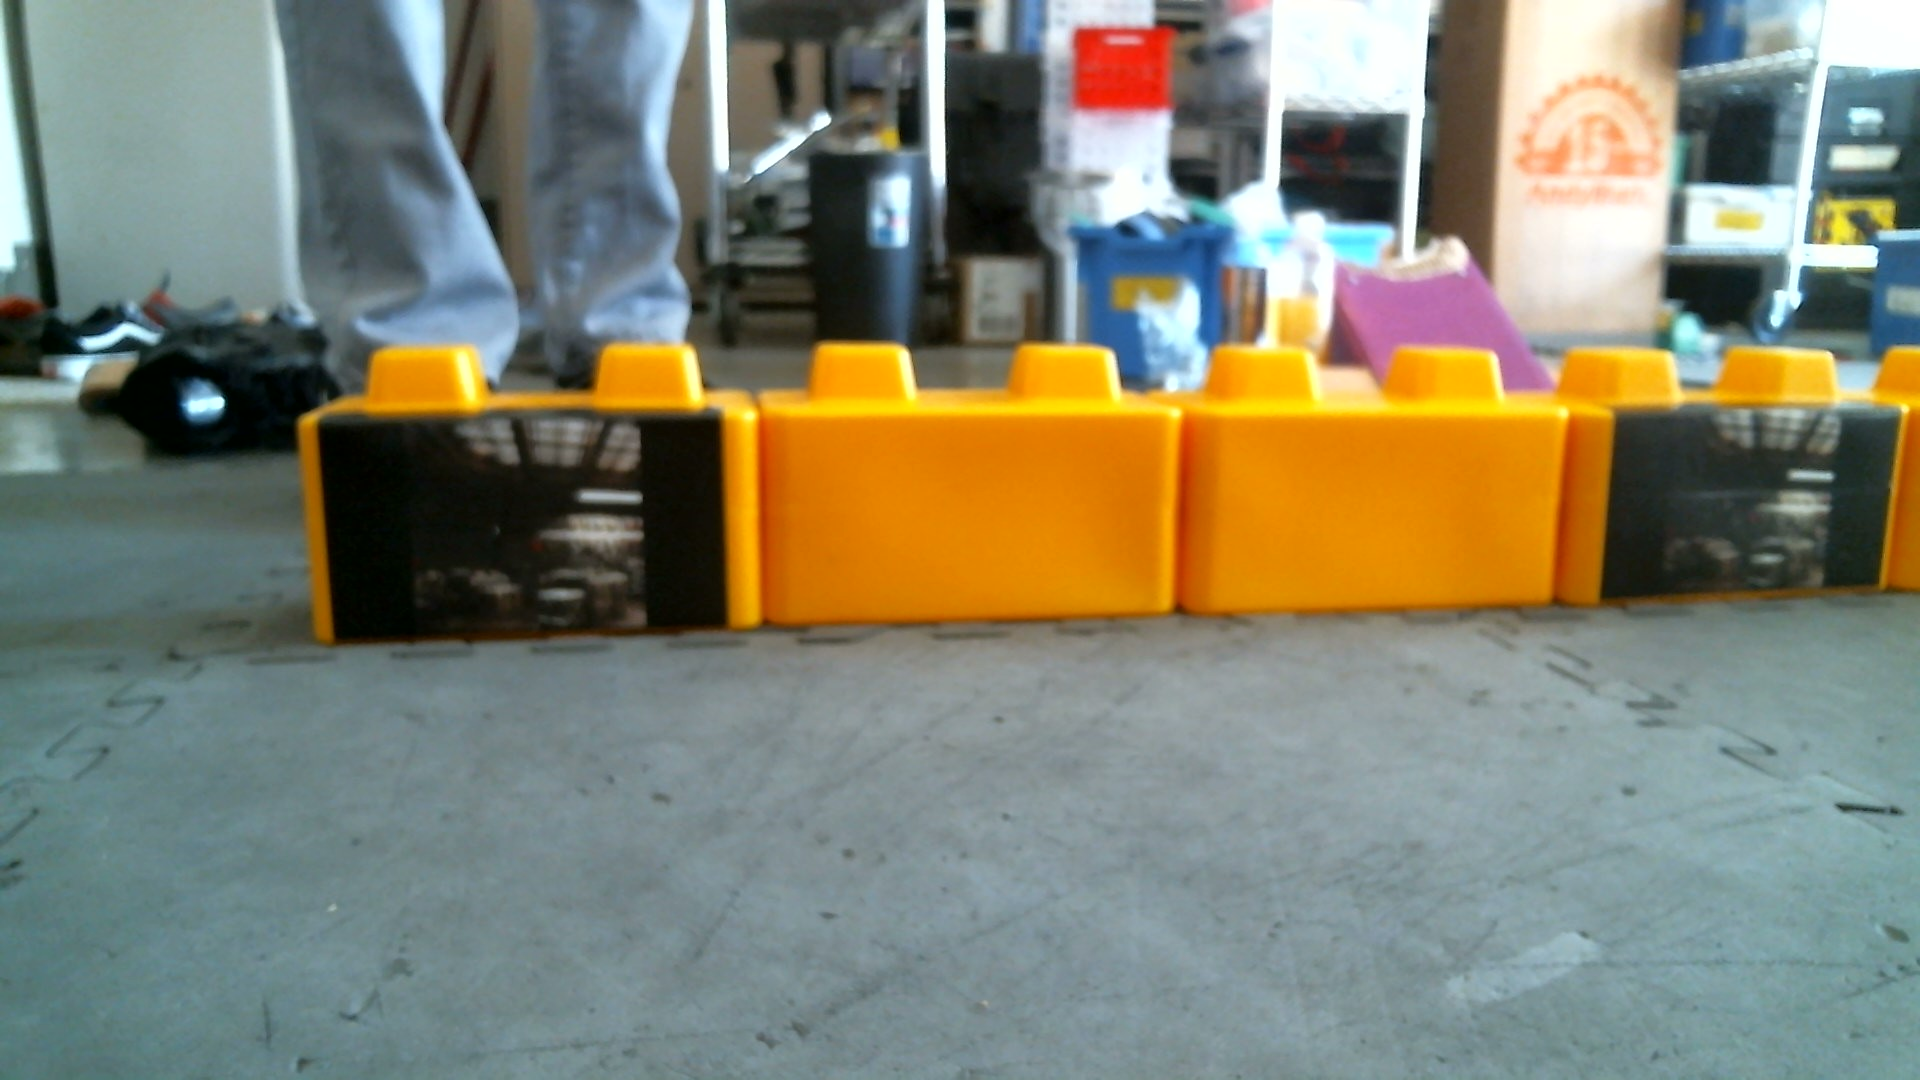skystone: (301, 349, 775, 641), (1564, 351, 1900, 615)
stone: (770, 347, 1184, 628), (1197, 349, 1573, 647)
